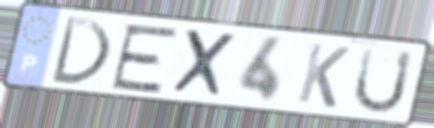4: (233, 33, 285, 107)
D: (48, 14, 114, 88)
E: (107, 23, 182, 95)
K: (293, 40, 352, 111)
U: (350, 45, 416, 116)
X: (168, 27, 240, 101)
